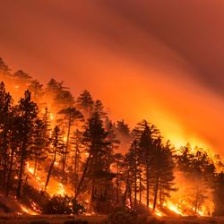fire: (137, 188, 211, 218), (26, 160, 69, 199), (166, 128, 214, 161)
